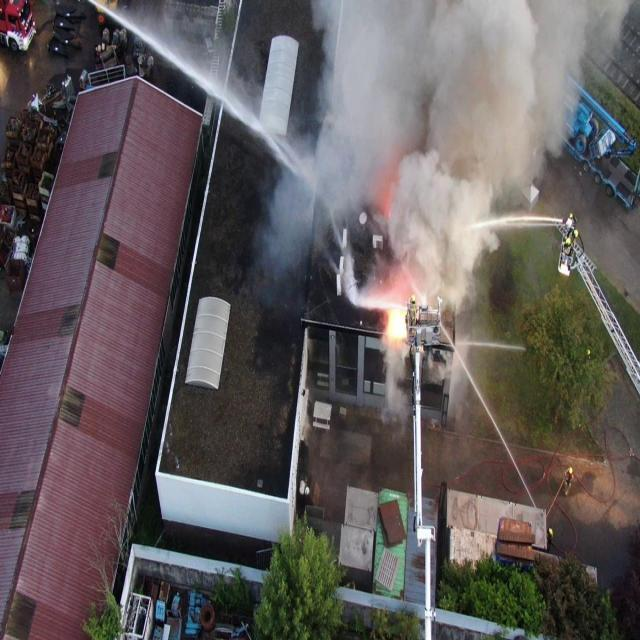Fire: (387, 308, 408, 341)
Smoke: (258, 0, 640, 445)
